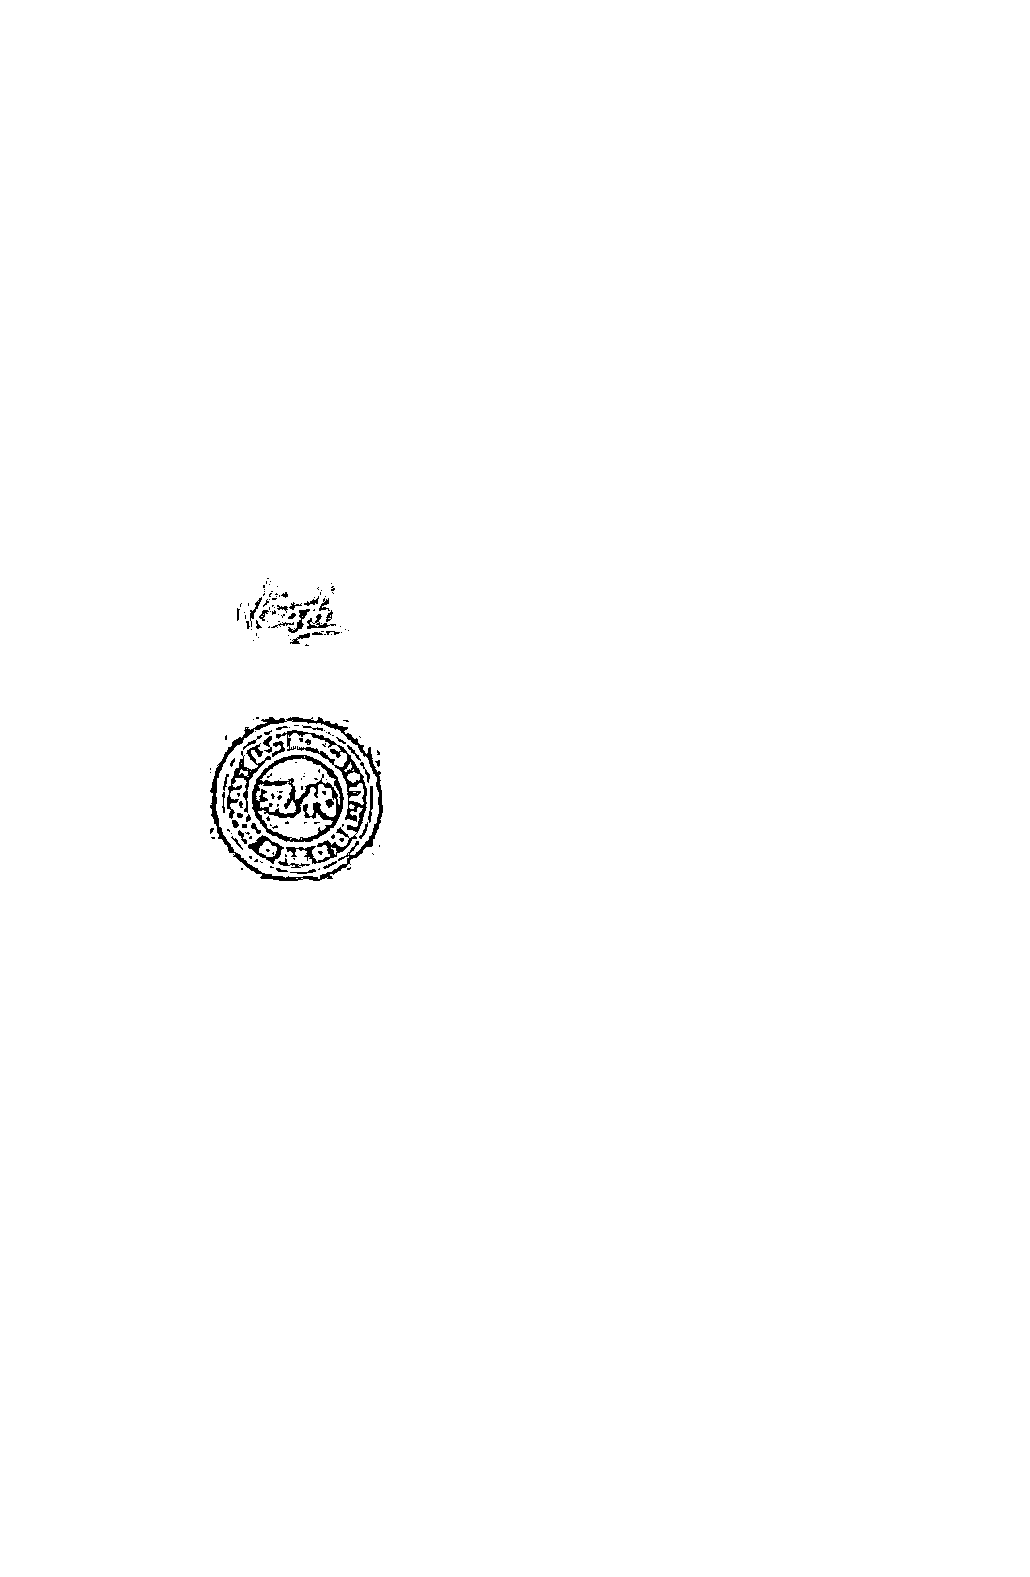Round chop: (209, 714, 390, 888)
